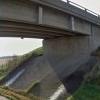Bridge: (8, 0, 95, 65)
